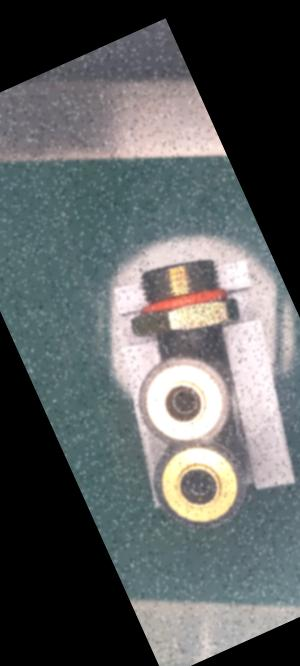craze: (176, 325, 199, 353)
